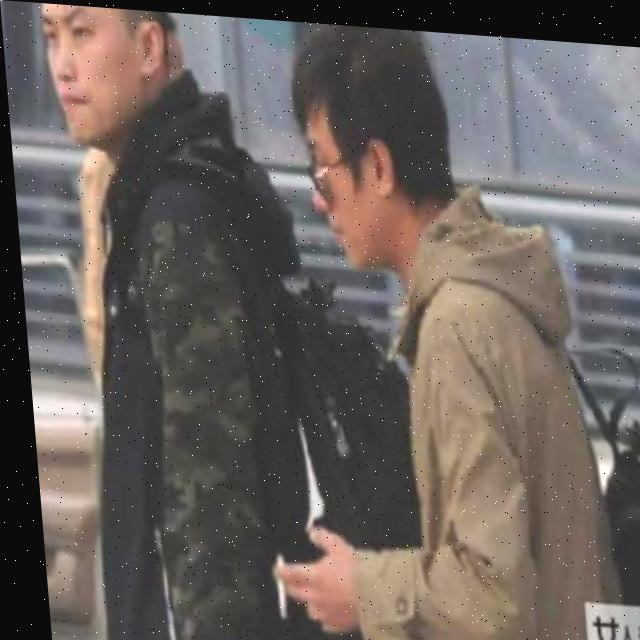cigarette: (264, 545, 281, 618)
